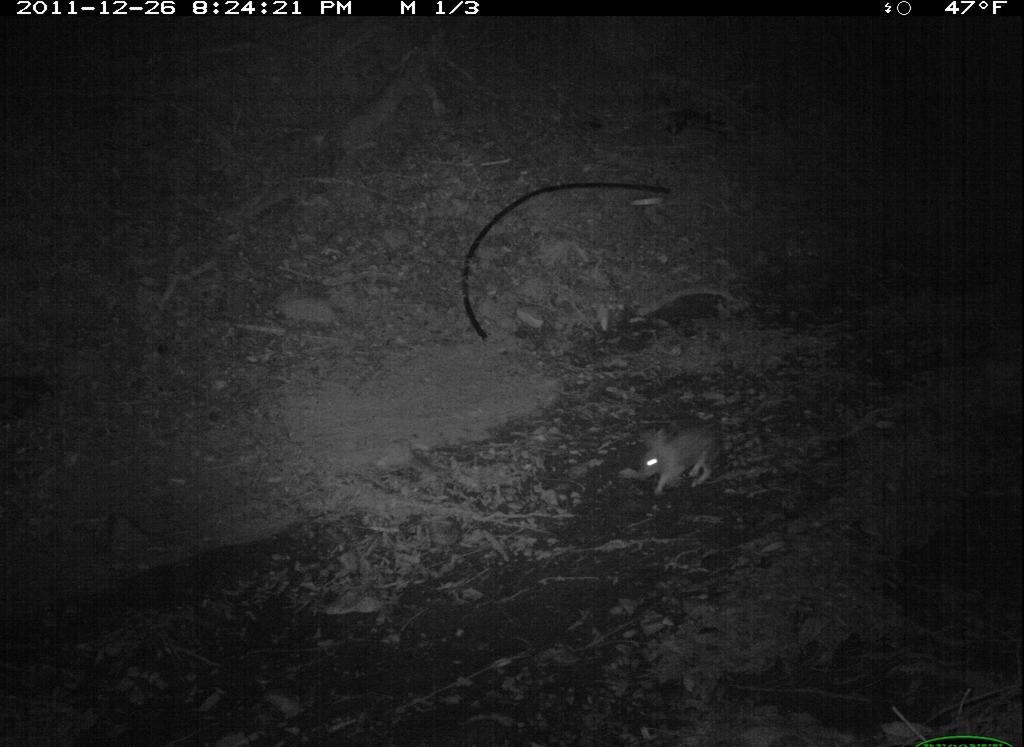rabbit: (629, 411, 731, 504)
